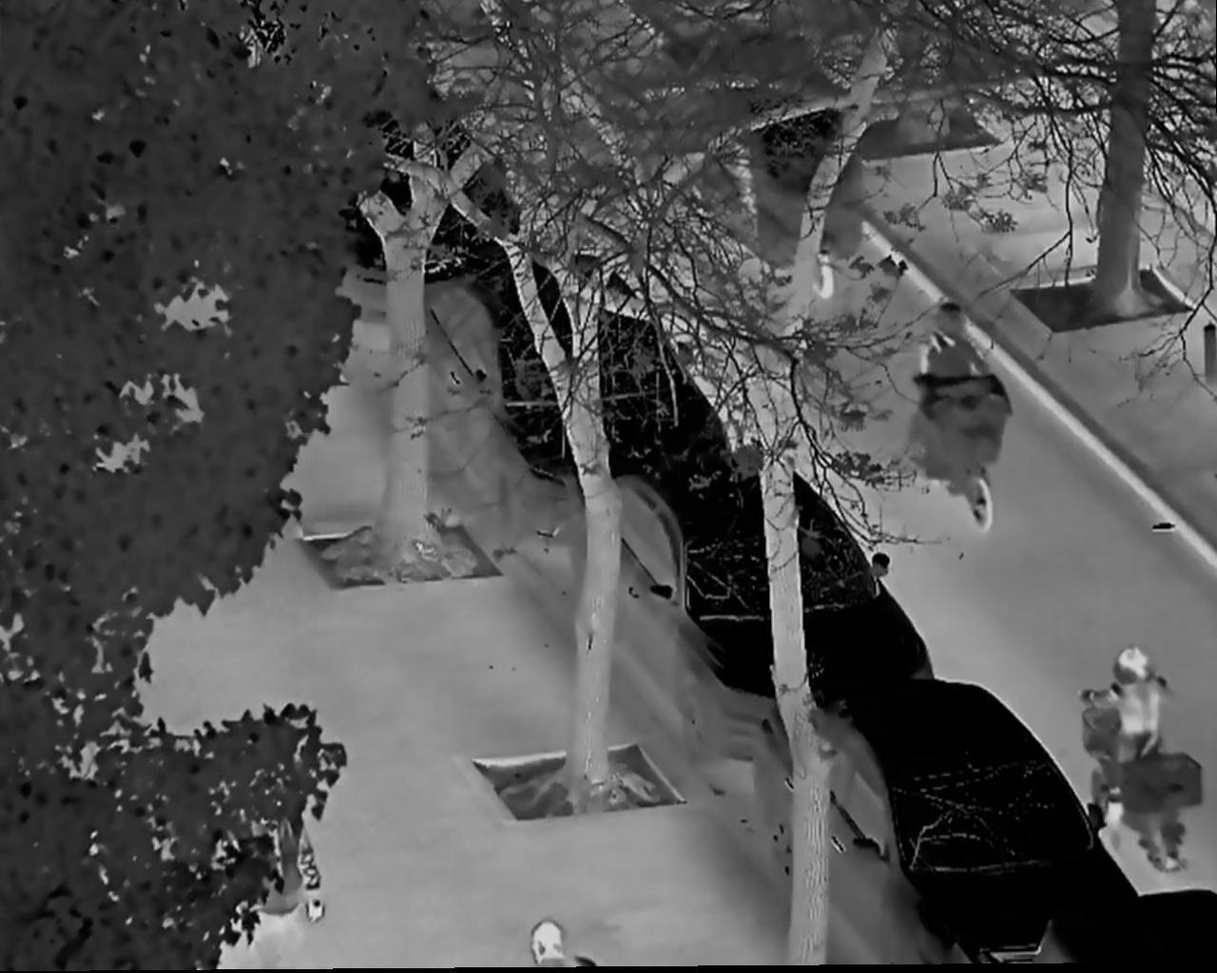person: (224, 784, 328, 973), (1089, 649, 1183, 834), (909, 302, 998, 459)
